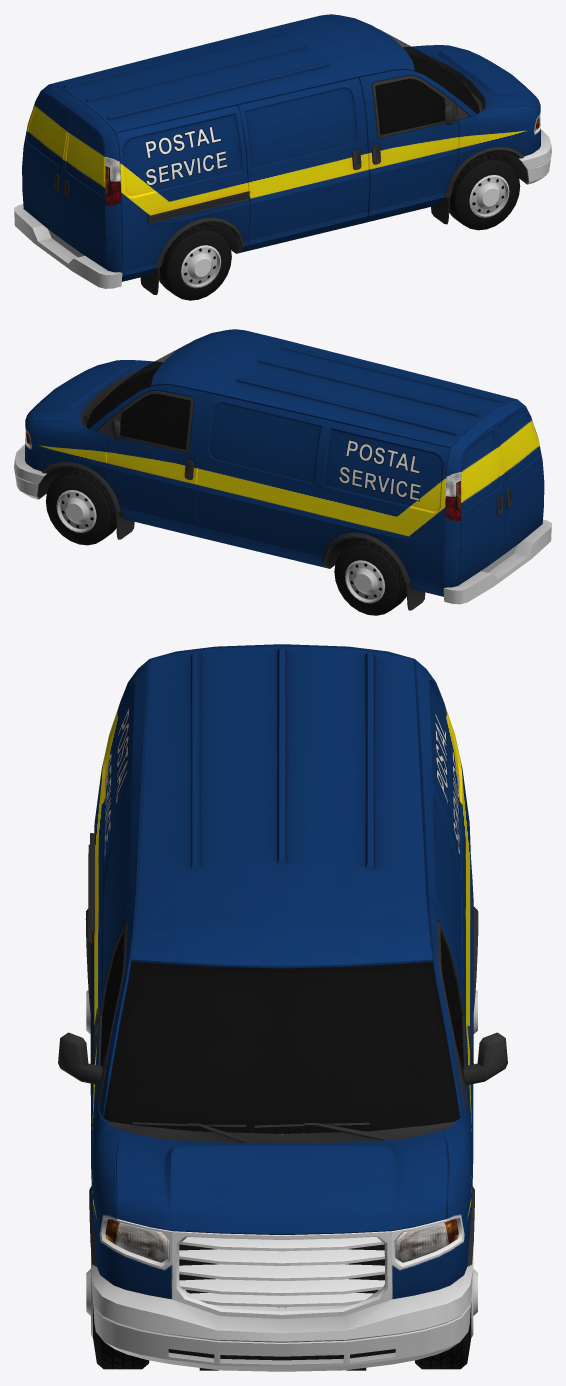
The model's file is van.glb.
The picture shows the model from 3 angles, top to bottom: view 1: azimuth 30°, elevation 25°; view 2: azimuth 150°, elevation 25°; view 3: azimuth 270°, elevation 25°; orthographic projection. The views are drawn at different scales.
Visible parts, largest first — view 1: Carroceria; view 2: Carroceria; view 3: Carroceria.
Boxes of the visible parts, x1,y1,x2,y2 form: Carroceria: (14,14,551,300); Carroceria: (14,329,551,615); Carroceria: (58,644,507,1371).
Bounding box in the file's own units: 5.34 × 1.98 × 2.19.
Materials: 4 (4 with a texture image).
